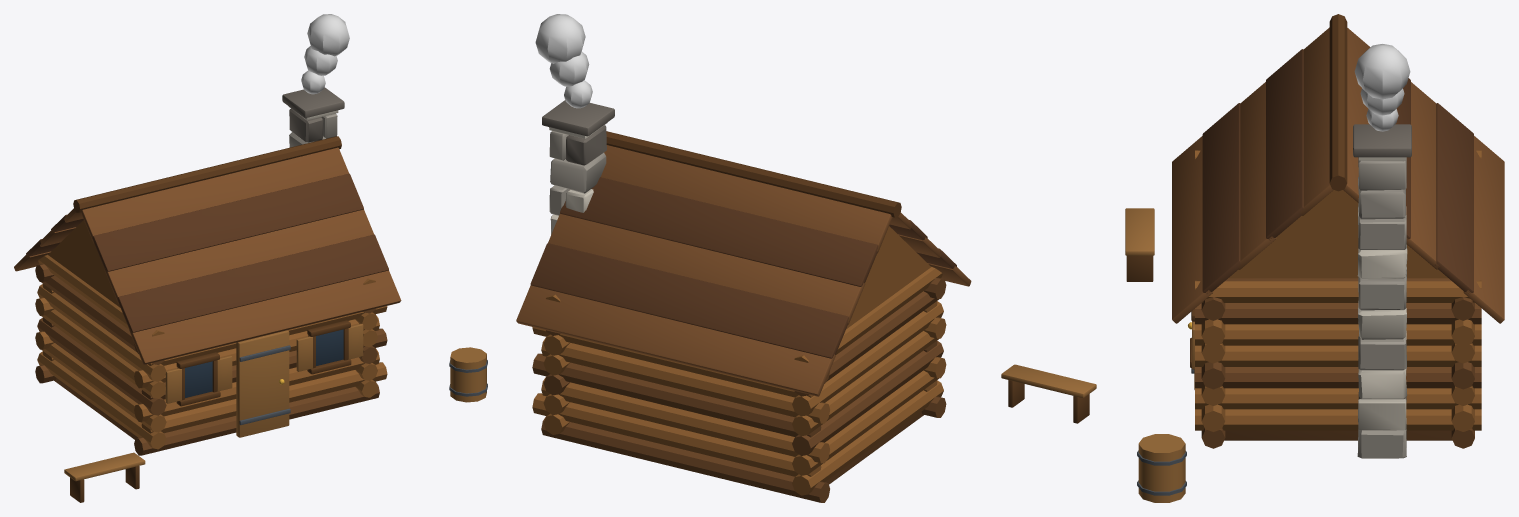
The model's file is budynek_glowny_poz03.glb.
3 views of the same model, side by side, from view 1: azimuth 30°, elevation 25°; view 2: azimuth 150°, elevation 25°; view 3: azimuth 270°, elevation 25° (orthographic). The views are drawn at different scales.
Visible parts, largest first — view 1: budynek_glowny_poz03; view 2: budynek_glowny_poz03; view 3: budynek_glowny_poz03.
Boxes of the visible parts, <box> form: budynek_glowny_poz03: <box>14,14,487,502</box>; budynek_glowny_poz03: <box>516,14,1096,502</box>; budynek_glowny_poz03: <box>1125,14,1504,502</box>.
Bounding box in the file's own units: 8.42 × 6.23 × 5.16.
